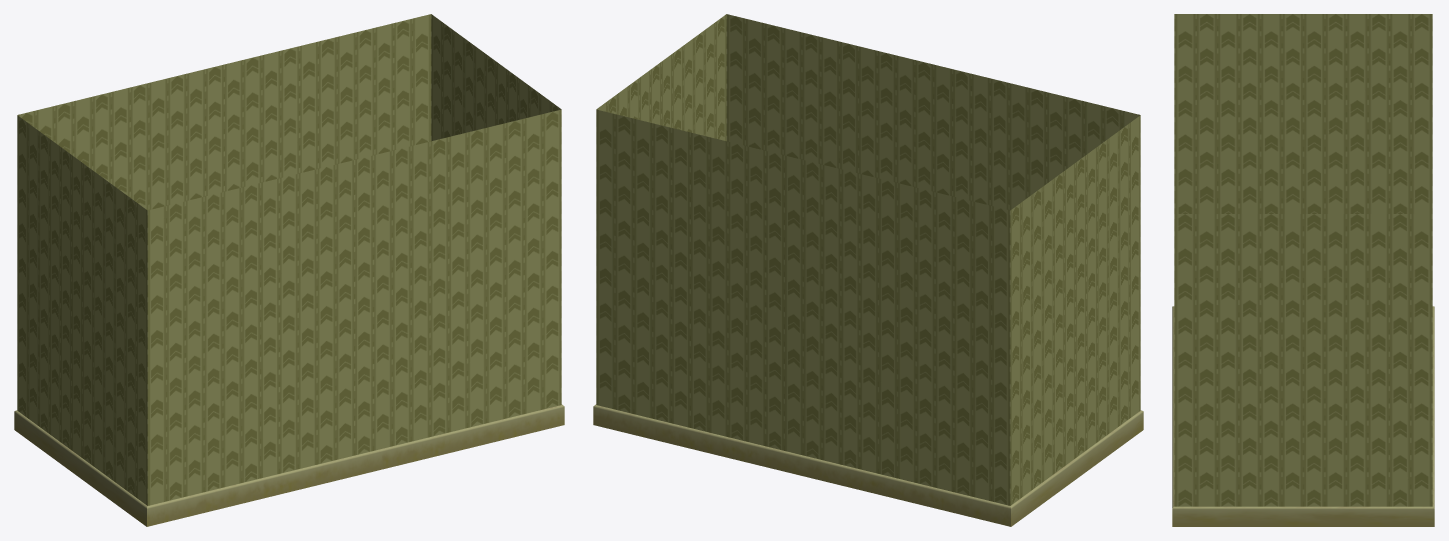
Rendered from WallBottomFat.fbx.
3 views of the same model, side by side, from view 1: azimuth 30°, elevation 25°; view 2: azimuth 150°, elevation 25°; view 3: azimuth 270°, elevation 25° (orthographic).
Visible parts, largest first — view 1: WallBottomFat; view 2: WallBottomFat; view 3: WallBottomFat.
Part boxes in pixels (left/top/right/bottom): WallBottomFat: left=14, top=14, right=564, bottom=526; WallBottomFat: left=593, top=14, right=1143, bottom=526; WallBottomFat: left=1172, top=14, right=1434, bottom=526.
Bounding box in the file's own units: 555 × 400 × 305.
